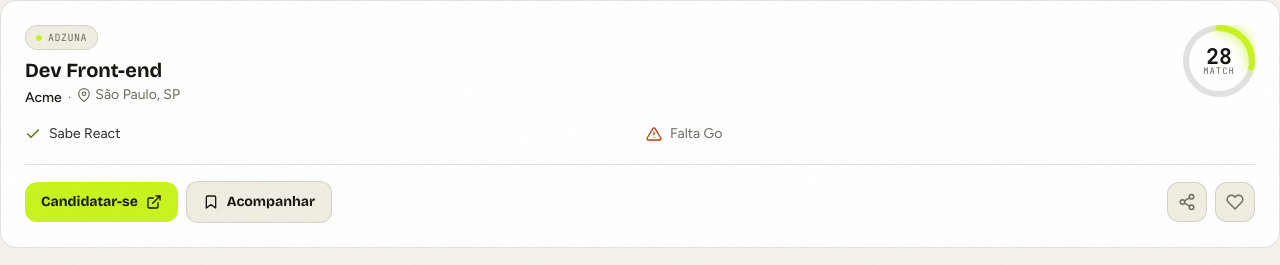
Scenario: JobCard › favoritar persiste e avisa a lista via evento (base do filtro "só favoritas")
The image size is (1280, 265).
Click the button named "salvar vaga": click(1235, 202) [1215,182,1255,222]
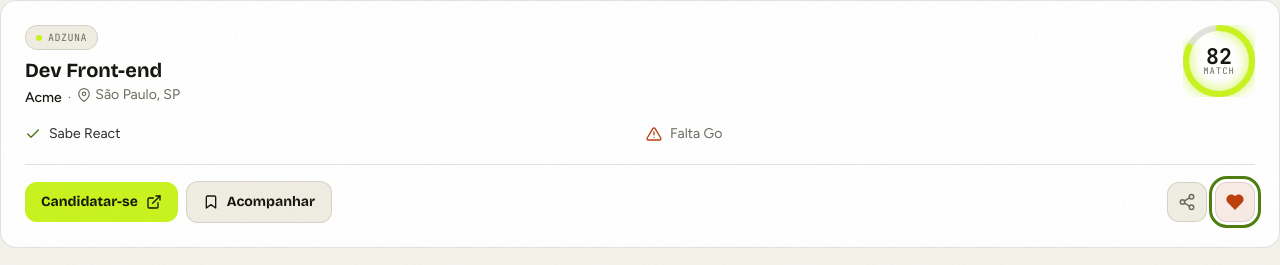
Now the button named "remover dos favoritos" is shown, box [1215,182,1255,222]
